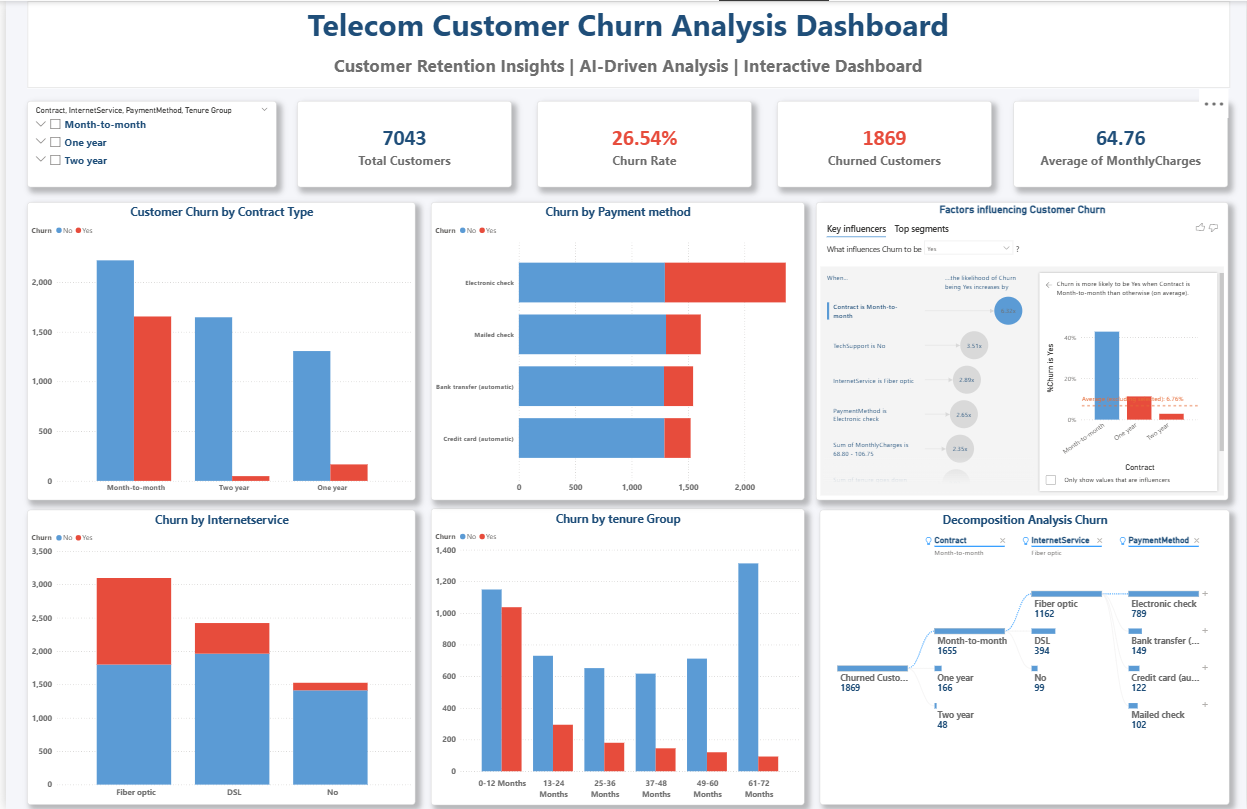

This screenshot's page, from the dashboard's own definition file:
{"tool":"powerbi","page":{"name":"Churn dashboard","canvas":[2300,1500],"ordinal":0},"visuals":[{"type":"card","title":"Total Customer","fields":{"Values":["churn_analysis churn_data.Total Customers"]},"box":[540,185,397.5,160],"z":0},{"type":"clusteredColumnChart","title":"Customer Churn by Contract Type","fields":{"Category":["churn_analysis churn_data.Contract"],"Series":["churn_analysis churn_data.Churn"],"Y":["CountNonNull(churn_analysis churn_data.customerID)"]},"box":[40,372.5,720,552.5],"z":1000},{"type":"columnChart","title":"Churn by Internetservice","fields":{"Category":["churn_analysis churn_data.InternetService"],"Series":["churn_analysis churn_data.Churn"],"Y":["CountNonNull(churn_analysis churn_data.customerID)"]},"box":[40,945,720,547.5],"z":2000},{"type":"keyDriversVisual","title":"Factors influencing Customer Churn","fields":{"Target":["churn_analysis churn_data.Churn"],"ExplainBy":["churn_analysis churn_data.Contract","churn_analysis churn_data.InternetService","churn_analysis churn_data.PaymentMethod","Sum(churn_analysis churn_data.MonthlyCharges)","Sum(churn_analysis churn_data.tenure)","churn_analysis churn_data.TechSupport"]},"box":[1502.5,372.5,765,552.5],"z":3000},{"type":"decompositionTreeVisual","title":"Decomposition Analysis Churn","fields":{"ExplainBy":["churn_analysis churn_data.Contract","churn_analysis churn_data.InternetService","churn_analysis churn_data.PaymentMethod","churn_analysis churn_data.tenure"],"Analyze":["churn_analysis churn_data.Churned Customers"]},"box":[1510,945,760,547.5],"z":4000},{"type":"card","title":"Total Customer","fields":{"Values":["churn_analysis churn_data.Churn Rate"]},"box":[985,185,397.5,160],"z":5000},{"type":"card","title":"Total Customer","fields":{"Values":["churn_analysis churn_data.Churned Customers"]},"box":[1430,185,397.5,160],"z":6000},{"type":"card","title":"Total Customer","fields":{"Values":["Avg(churn_analysis churn_data.MonthlyCharges)"]},"box":[1870,185,397.5,160],"z":7000},{"type":"clusteredColumnChart","title":"Churn by tenure Group","fields":{"Series":["churn_analysis churn_data.Churn"],"Category":["churn_analysis churn_data.Tenure Group"],"Y":["Count(churn_analysis churn_data.customerID)"]},"box":[787.5,942.5,692.5,550],"z":8000},{"type":"barChart","title":"Churn by Payment method","fields":{"Category":["churn_analysis churn_data.PaymentMethod"],"Series":["churn_analysis churn_data.Churn"],"Y":["CountNonNull(churn_analysis churn_data.customerID)"]},"box":[787.5,372.5,692.5,552.5],"z":9000},{"type":"slicer","fields":{"Values":["churn_analysis churn_data.Contract","churn_analysis churn_data.InternetService","churn_analysis churn_data.PaymentMethod","churn_analysis churn_data.Tenure Group"]},"box":[40,185,462.5,160],"z":11000},{"type":"textbox","box":[40,0,2230,162.5],"z":11001}]}

Visuals, with their boxes in screenshot pixels (x1, y1, x2, y2), scaled from the page's 2300x1500 canvas onto the 1247x809 screenshot:
"Total Customer" card: 293,100,508,186
"Customer Churn by Contract Type" clusteredColumnChart: 22,201,412,499
"Churn by Internetservice" columnChart: 22,510,412,805
"Factors influencing Customer Churn" keyDriversVisual: 815,201,1229,499
"Decomposition Analysis Churn" decompositionTreeVisual: 819,510,1231,805
"Total Customer" card: 534,100,750,186
"Total Customer" card: 775,100,991,186
"Total Customer" card: 1014,100,1229,186
"Churn by tenure Group" clusteredColumnChart: 427,508,802,805
"Churn by Payment method" barChart: 427,201,802,499
slicer - churn_analysis churn_data.Contract x churn_analysis churn_data.InternetService: 22,100,272,186
textbox: 22,0,1231,88
